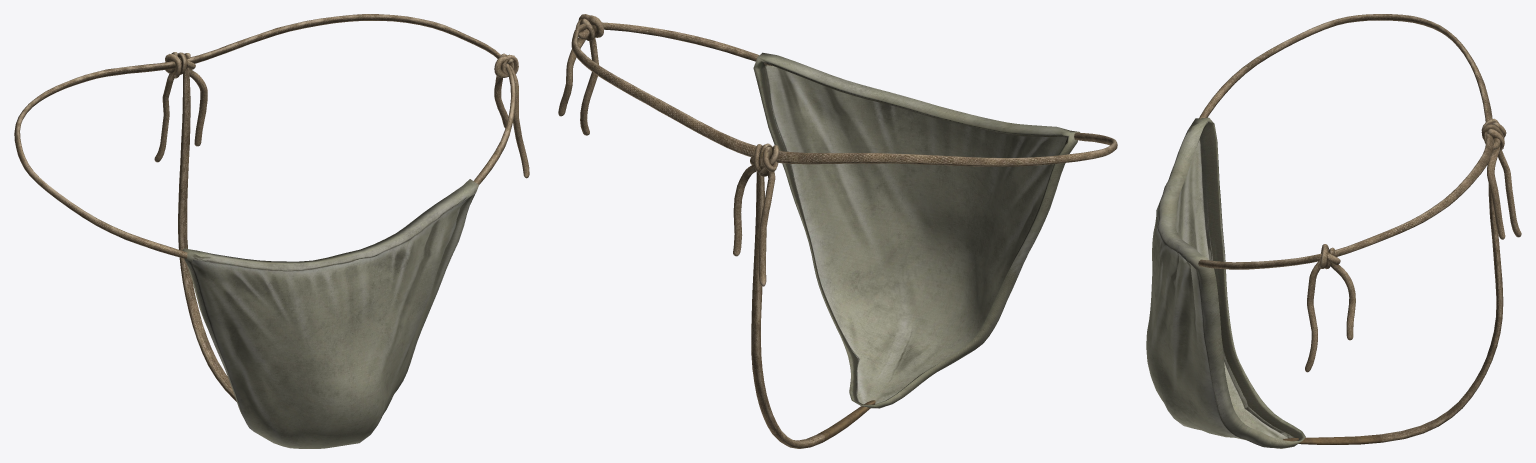
File: SM_Calzon.glb
The picture shows the model from 3 angles, left to right: view 1: azimuth 30°, elevation 25°; view 2: azimuth 150°, elevation 25°; view 3: azimuth 270°, elevation 25°; orthographic projection. The views are drawn at different scales.
Parts seen in each view (by area): view 1: Calzon_Low; view 2: Calzon_Low; view 3: Calzon_Low.
Boxes of the visible parts, <box> form: Calzon_Low: <box>14,14,529,448</box>; Calzon_Low: <box>558,14,1117,448</box>; Calzon_Low: <box>1146,14,1521,448</box>.
Bounding box in the file's own units: 0.3501 × 0.2247 × 0.2309.
1 material, 1 textured.
